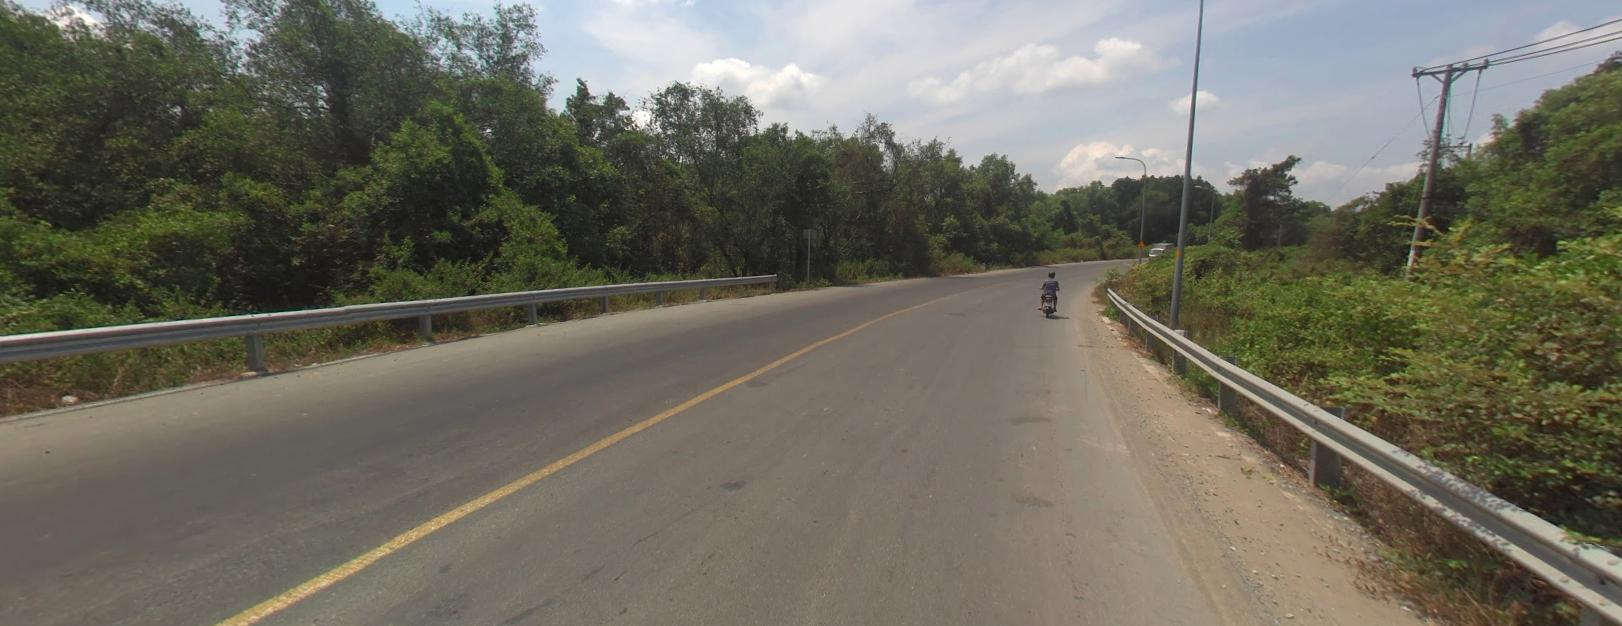Nguy hiem: (1136, 238, 1144, 245)
